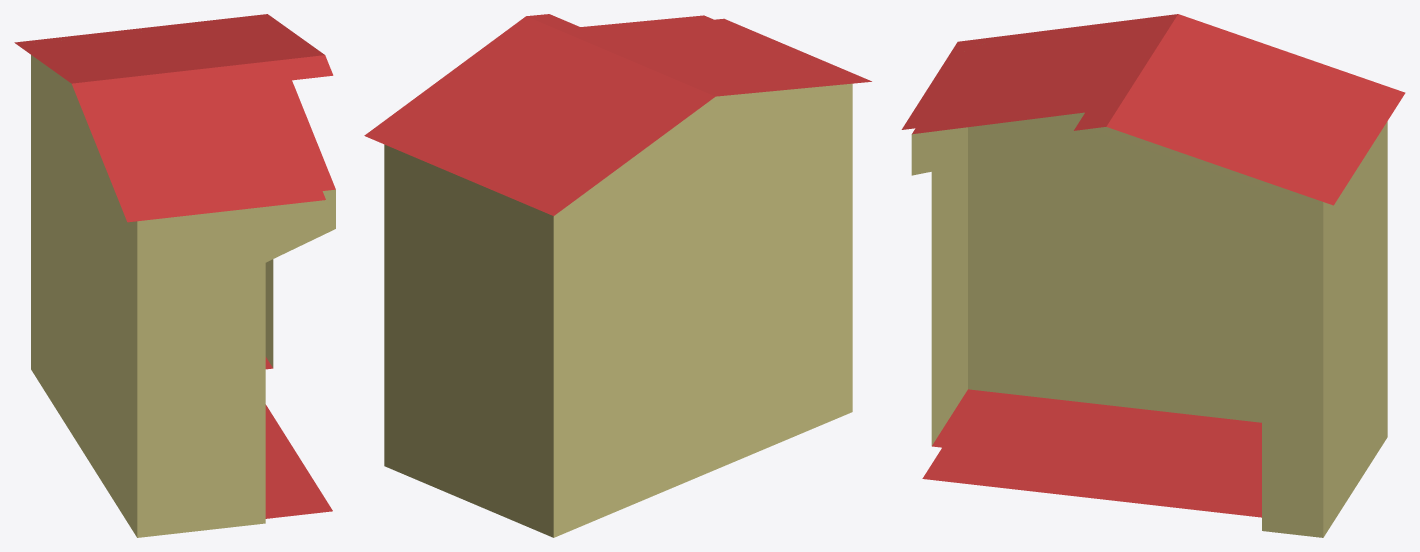
3 views of the same model, side by side, from view 1: azimuth 30°, elevation 25°; view 2: azimuth 150°, elevation 25°; view 3: azimuth 270°, elevation 25° (orthographic). The views are drawn at different scales.
Bounding box in the file's own units: 13.23 × 17.21 × 14.8.
